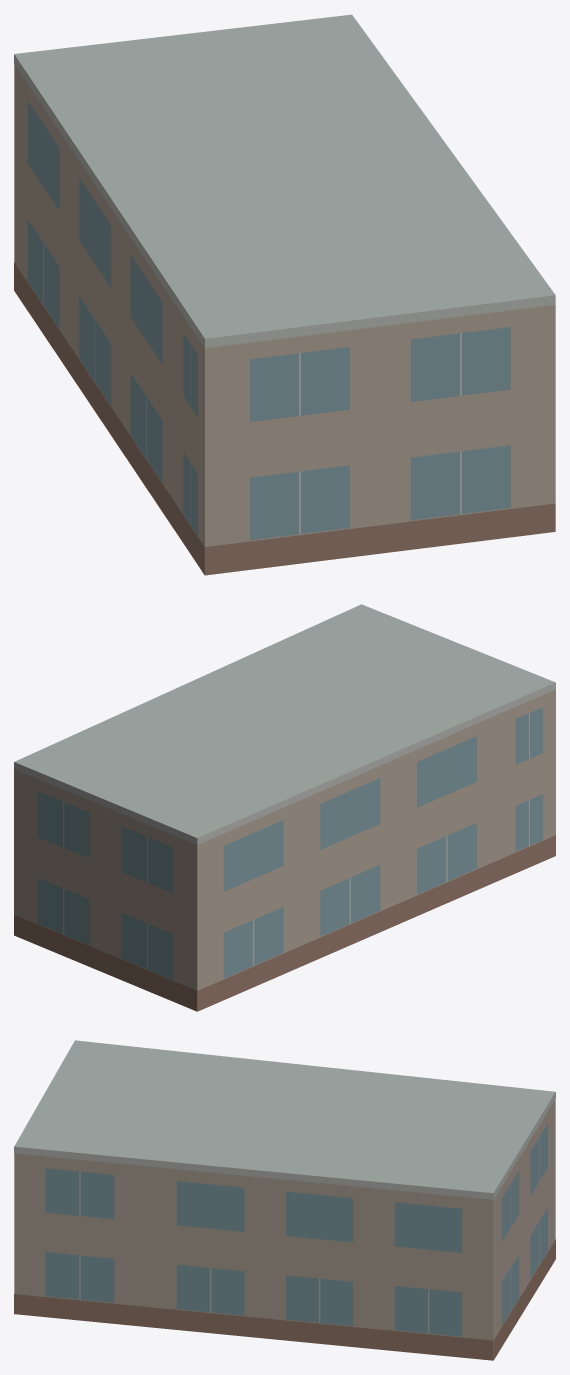
The model's file is survey-upis-32718595.glb.
3 renders of one model, top to bottom at view 1: azimuth 30°, elevation 25°; view 2: azimuth 150°, elevation 25°; view 3: azimuth 270°, elevation 25°, orthographic. The views are drawn at different scales.
Parts seen in each view (by area): view 1: survey-upis-32718595.tmp; view 2: survey-upis-32718595.tmp; view 3: survey-upis-32718595.tmp.
Part boxes in pixels (x1,y1,x2,y2): survey-upis-32718595.tmp: [14, 14, 555, 575]; survey-upis-32718595.tmp: [14, 604, 555, 1011]; survey-upis-32718595.tmp: [14, 1040, 555, 1360].
Bounding box in the file's own units: 11.96 × 6.1 × 17.9.
